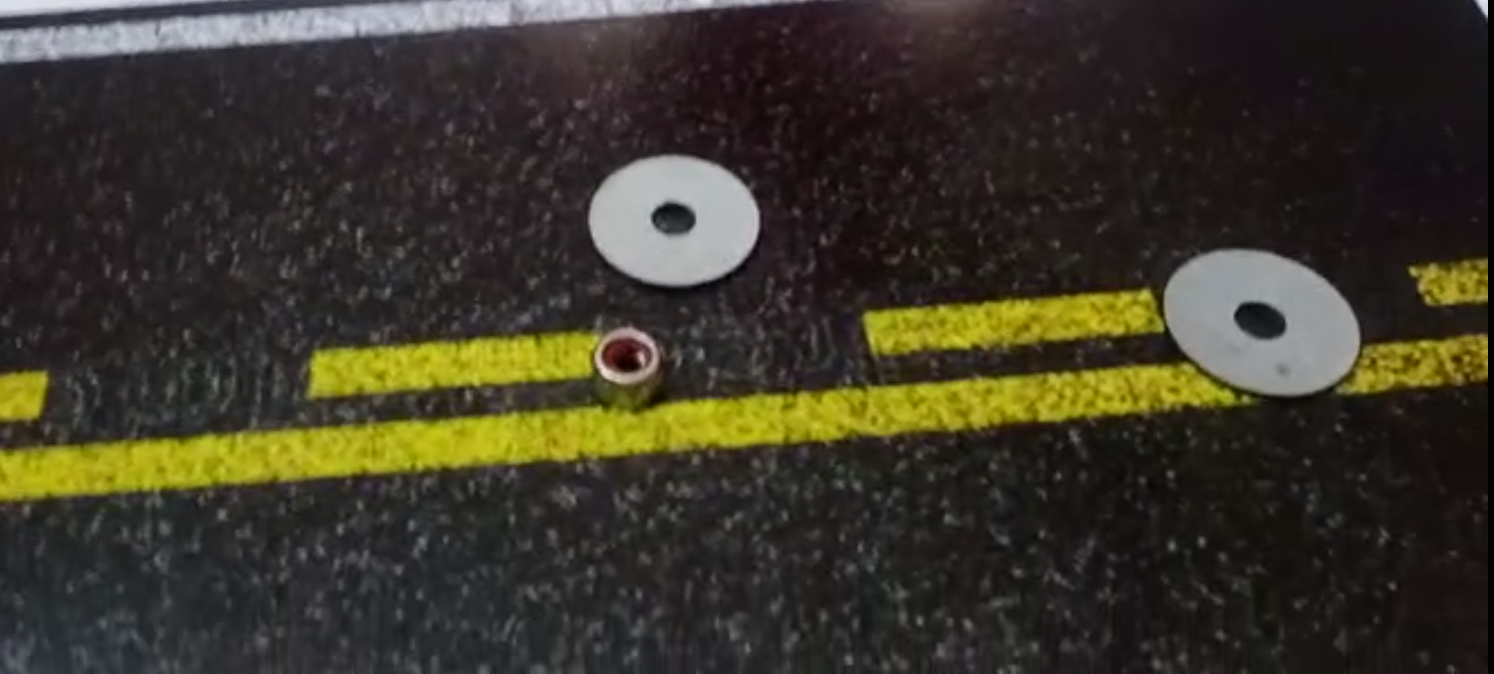metal: (1159, 244, 1368, 403), (580, 151, 765, 287), (588, 328, 668, 410)
